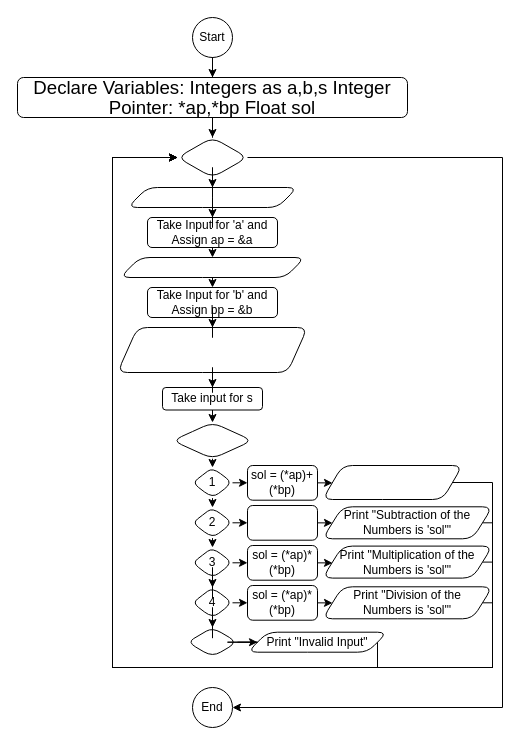
Some shapes in this 528 by 745 pixel diagram are drawn without their labels. Here are the shapes that lost their labels. From the top down, the centre of each, then its label:
point (212, 157): While (1)
point (212, 197): Print "Enter First Number"
point (212, 267): Print "Enter Second Number"
point (212, 349): Print "Enter 1. Addition 2. Subtraction 3. Multiplication 4. Division"
point (212, 440): Switch(s)
point (392, 482): Print "Addition of the Numbers is 'sol'"
point (282, 522): sol = (*ap)-(*bp)
point (212, 641): Default
